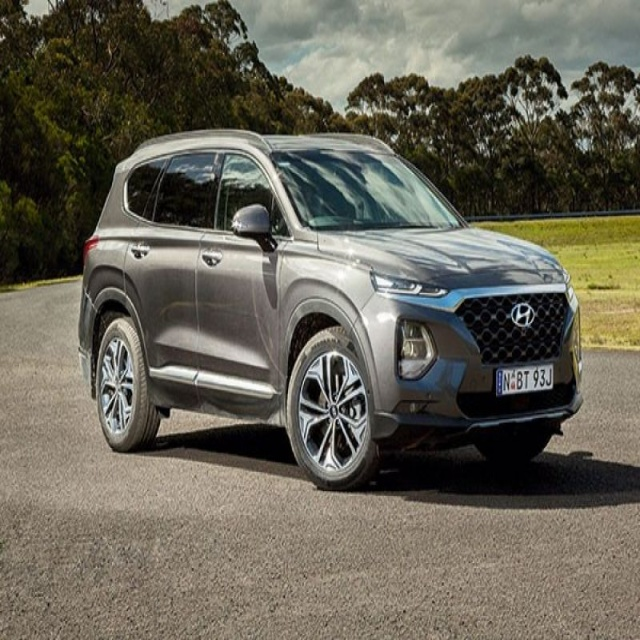Car: (78, 128, 583, 494)
